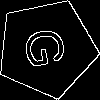G: (21, 23, 76, 71)
